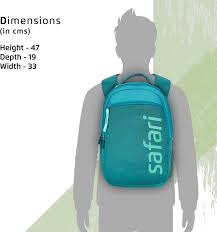backpack: (98, 72, 174, 187)
